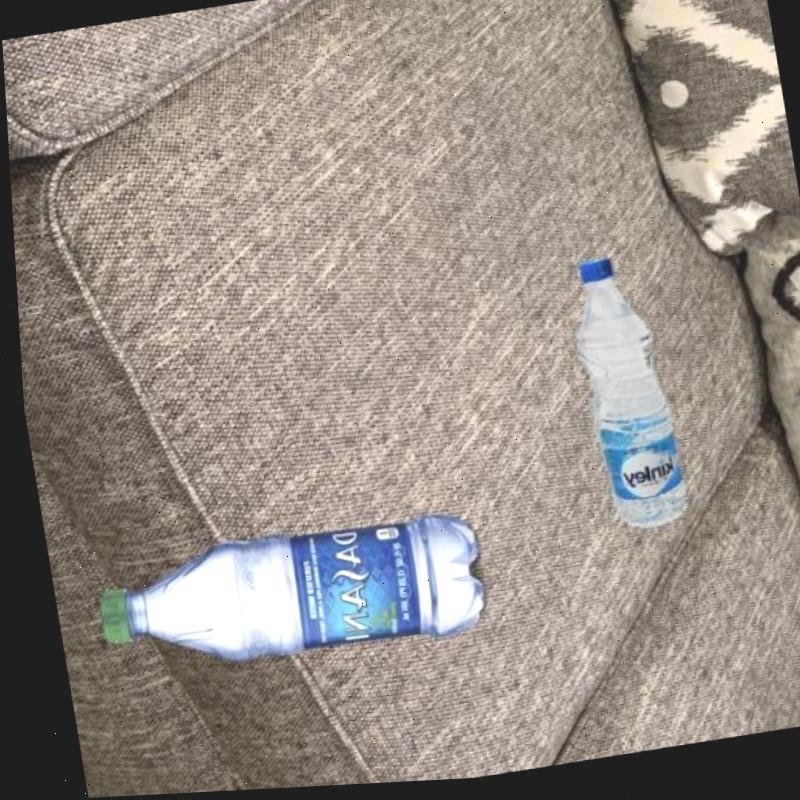botella: (79, 504, 484, 690), (560, 255, 682, 546)
